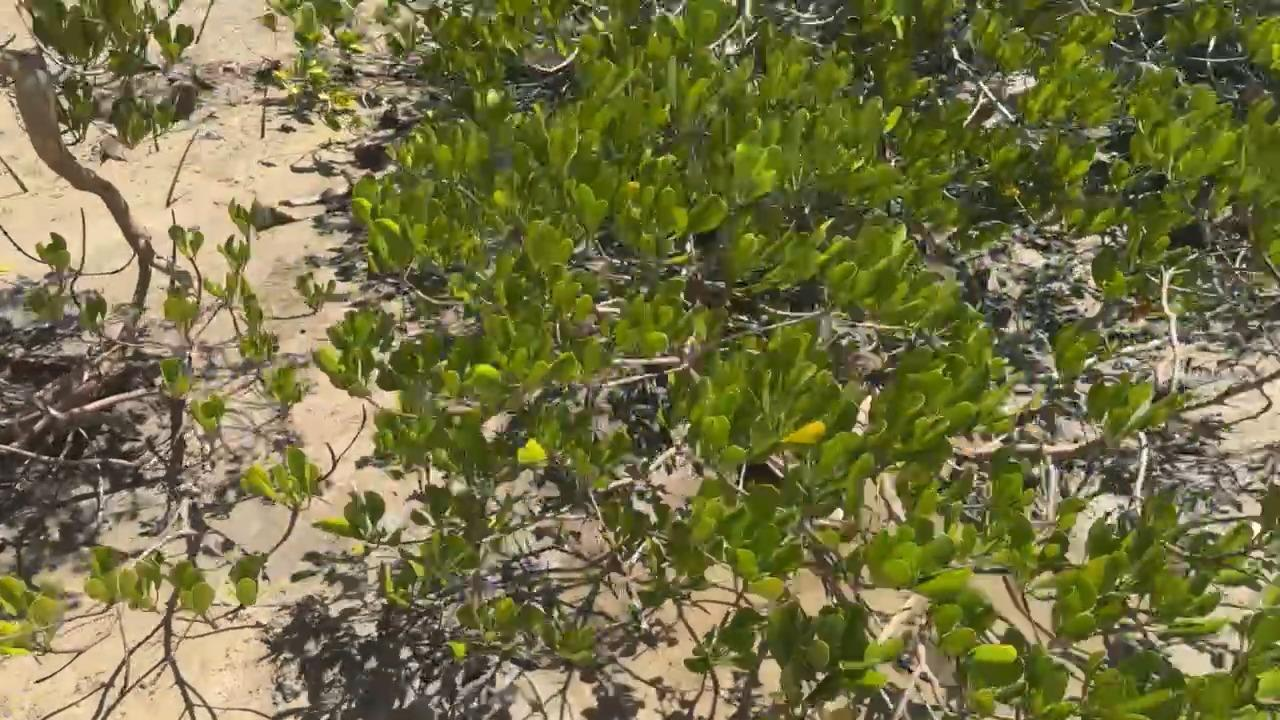Tree: (163, 129, 199, 208), (0, 156, 29, 194), (194, 0, 215, 45), (260, 85, 268, 138)
